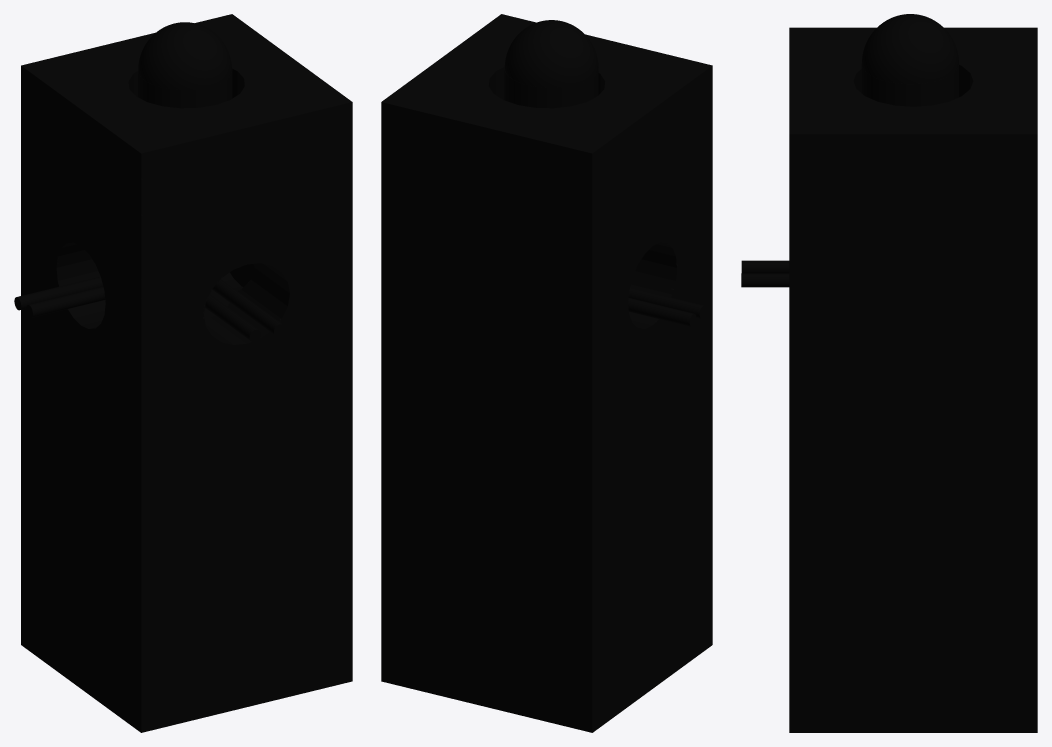
Rendered from LeguLeteron_LED_BOX.fbx.
3 renders of one model, left to right at view 1: azimuth 30°, elevation 25°; view 2: azimuth 150°, elevation 25°; view 3: azimuth 270°, elevation 25°, orthographic. The views are drawn at different scales.
Parts seen in each view (by area): view 1: node_id7494, node_id7513 (×2), node_id7511, node_id7503, node_id7507, node_id7499; view 2: node_id7494, node_id7513 (×2), node_id7507, node_id7503; view 3: node_id7494, node_id7513 (×2), node_id7511, node_id7499.
Part boxes in pixels (x1,y1,x2,y2): node_id7494: [21, 14, 352, 732]; node_id7513 (×2): [138, 22, 232, 108]; node_id7511: [212, 279, 285, 336]; node_id7503: [26, 286, 105, 317]; node_id7507: [14, 276, 103, 310]; node_id7499: [205, 294, 261, 342]; node_id7494: [381, 14, 712, 732]; node_id7513 (×2): [504, 20, 598, 108]; node_id7507: [628, 298, 696, 326]; node_id7503: [628, 287, 706, 318]; node_id7494: [789, 27, 1037, 732]; node_id7513 (×2): [861, 14, 958, 106]; node_id7511: [741, 273, 789, 287]; node_id7499: [741, 260, 789, 273].
Bounding box in the file's own units: 0.2284 × 0.5296 × 0.2157.
Materials: 9 (9 with a texture image).
